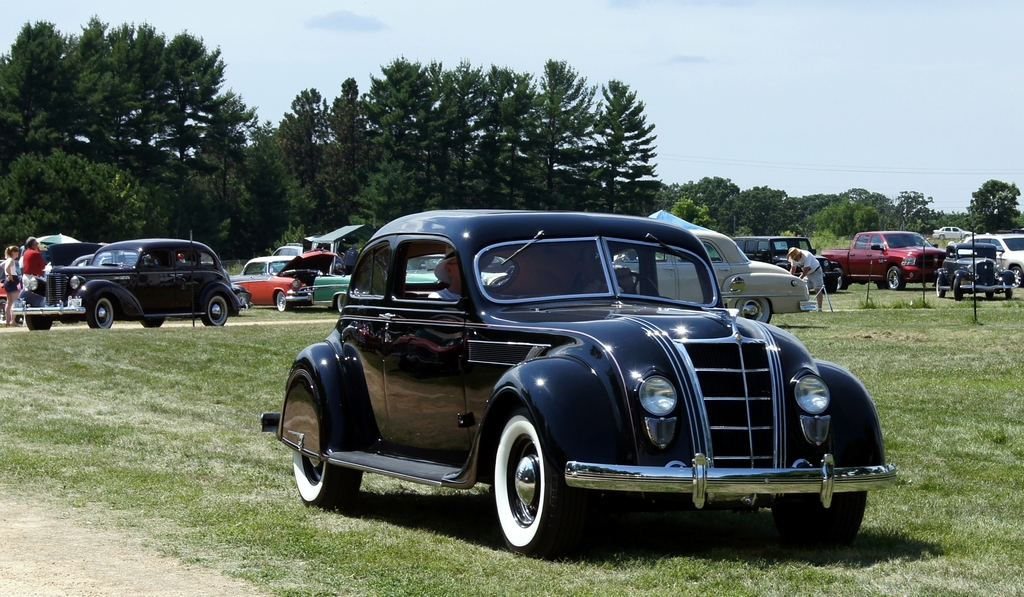Car: (274, 213, 899, 561), (19, 238, 243, 325), (617, 230, 815, 323), (937, 240, 1011, 300), (231, 257, 294, 312), (963, 234, 1023, 287)
